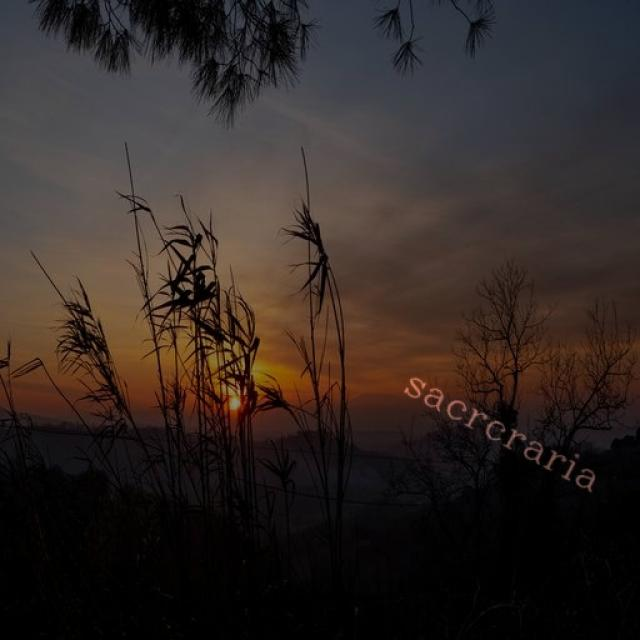watermark: (392, 361, 620, 500)
